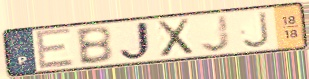B: (73, 24, 116, 67)
E: (33, 27, 78, 72)
J: (117, 20, 156, 62), (199, 13, 233, 53), (240, 10, 272, 50)
X: (155, 16, 196, 59)
